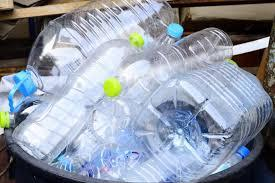Plastic bottle: (12, 12, 255, 167)
